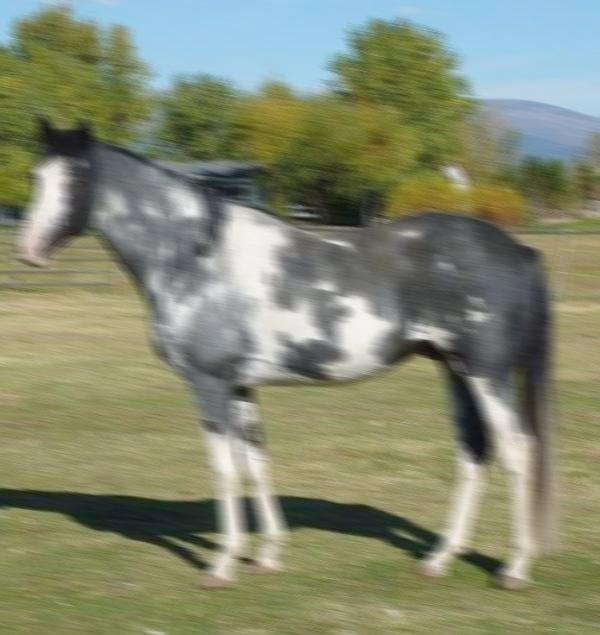horse: (16, 111, 564, 592)
